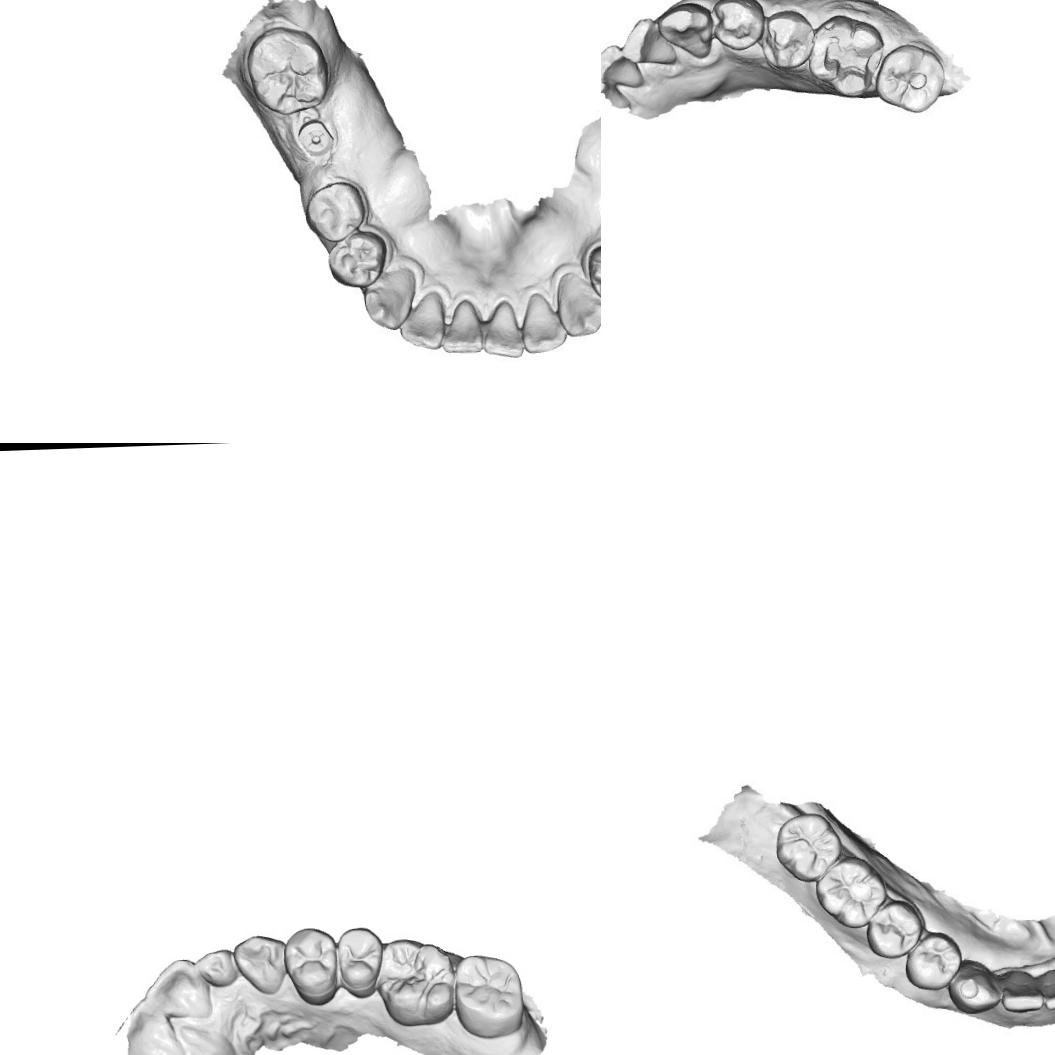canine: (360, 264, 420, 334), (231, 930, 287, 998), (656, 2, 716, 62), (946, 958, 1001, 1016), (558, 273, 601, 340)
implant_plus: (295, 114, 337, 158)
incisor: (142, 955, 213, 1023), (117, 1003, 187, 1055), (517, 289, 569, 356), (396, 289, 447, 352), (618, 15, 678, 68), (481, 298, 525, 360), (440, 298, 484, 357), (601, 43, 646, 91), (999, 968, 1044, 1014), (192, 947, 234, 990), (1041, 971, 1055, 1010)
inlay: (820, 32, 883, 91)
molar: (242, 22, 332, 118), (375, 934, 459, 1029), (452, 951, 526, 1042), (814, 854, 889, 930), (872, 42, 948, 116), (774, 811, 844, 884)
premolar: (282, 924, 344, 1008), (323, 228, 391, 290), (302, 179, 366, 244), (333, 924, 386, 1000), (864, 898, 925, 960), (903, 930, 964, 992), (759, 8, 816, 70), (711, 0, 768, 53), (585, 242, 601, 302)
